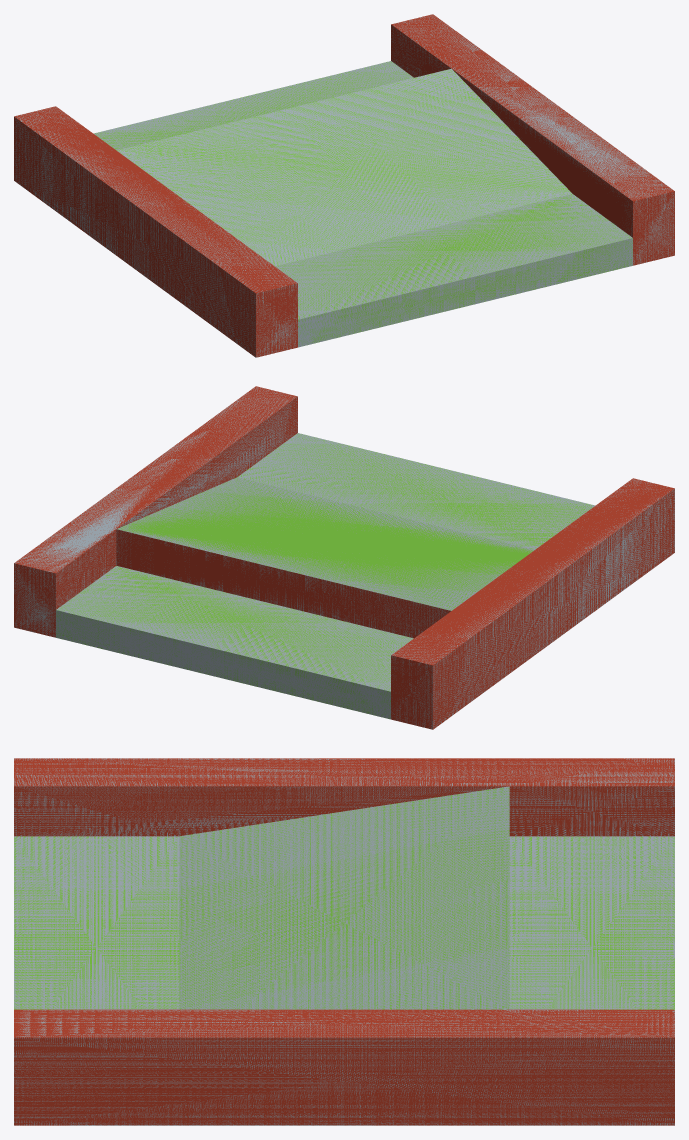
File: Ramp_sharp_01.obj
The picture shows the model from 3 angles, top to bottom: view 1: azimuth 30°, elevation 25°; view 2: azimuth 150°, elevation 25°; view 3: azimuth 270°, elevation 25°; orthographic projection. The views are drawn at different scales.
Visible parts, largest first — view 1: Mesh1 Ramp_sharp Model; view 2: Mesh1 Ramp_sharp Model; view 3: Mesh1 Ramp_sharp Model.
Part boxes in pixels (x1,y1,x2,y2): Mesh1 Ramp_sharp Model: (14, 14, 674, 357); Mesh1 Ramp_sharp Model: (14, 386, 674, 729); Mesh1 Ramp_sharp Model: (14, 758, 674, 1125).
Bounding box in the file's own units: 3 × 0.44 × 3.
